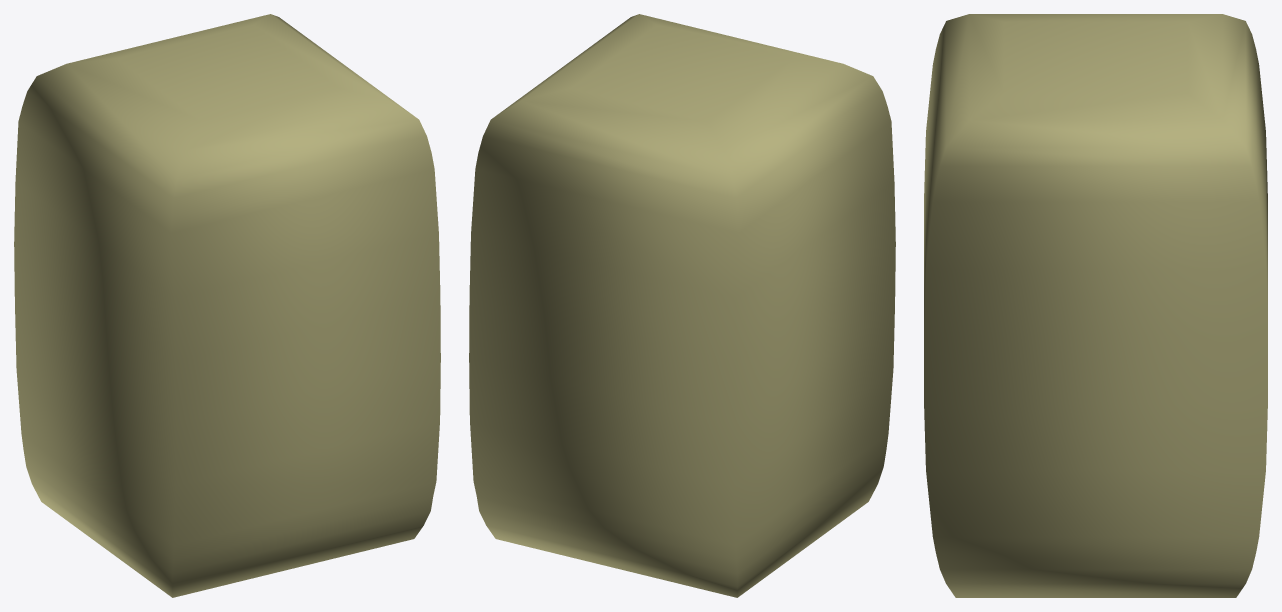
File: FarinaIntegrale250g.fbx
3 renders of one model, left to right at view 1: azimuth 30°, elevation 25°; view 2: azimuth 150°, elevation 25°; view 3: azimuth 270°, elevation 25°, orthographic. The views are drawn at different scales.
Visible parts, largest first — view 1: FarinaIntegrale250g; view 2: FarinaIntegrale250g; view 3: FarinaIntegrale250g.
Boxes of the visible parts, <box> form: FarinaIntegrale250g: <box>14,14,440,597</box>; FarinaIntegrale250g: <box>469,14,895,597</box>; FarinaIntegrale250g: <box>924,14,1267,597</box>.
Size of the model in its own units: 223 by 358 by 234.
